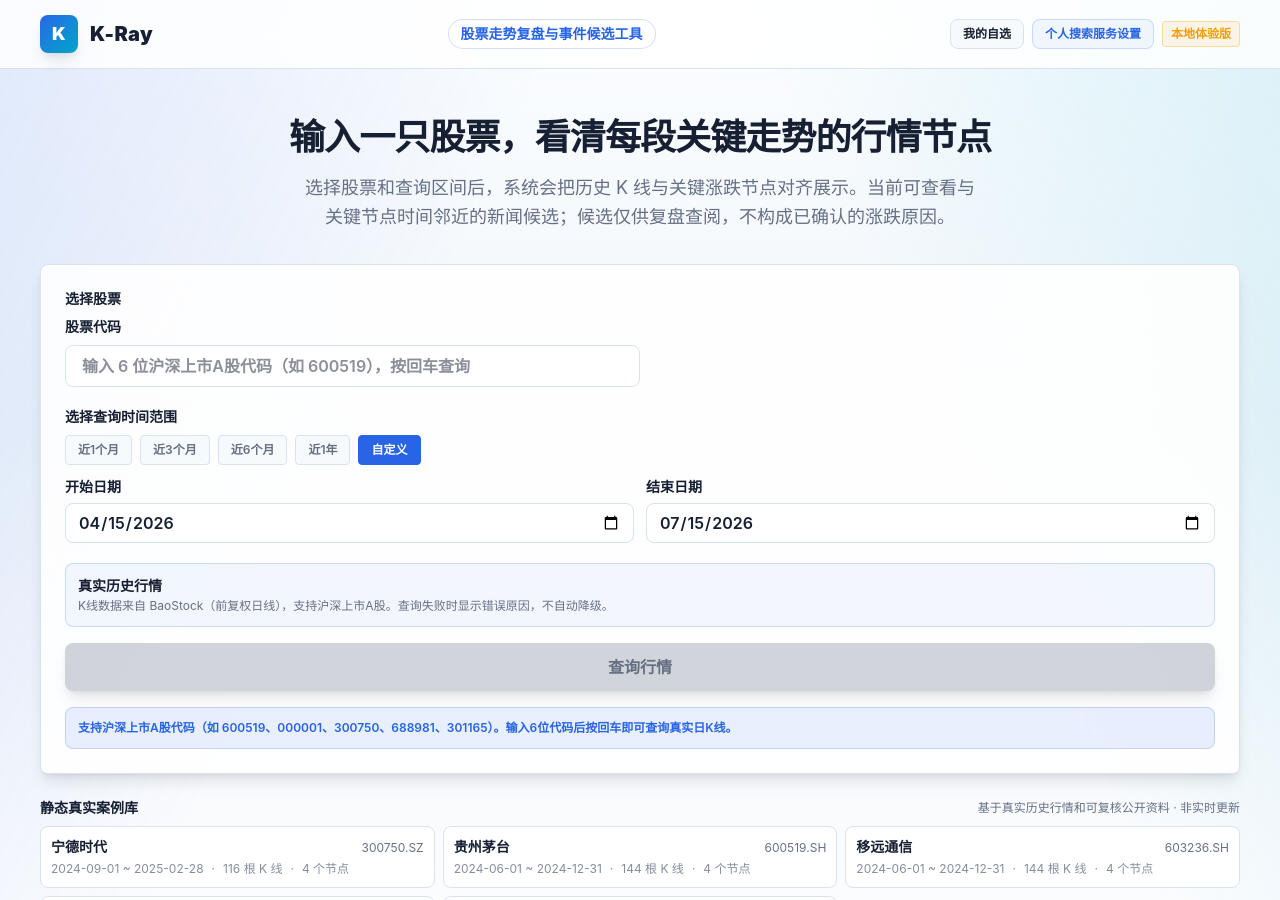
Test: 第八阶段前端测试 - 全A股日K查询 › 输入6位代码后显示自定义代码选项
The width and height of the screenshot is (1280, 900).
Step 1. Type "601318" into the field with placeholder "输入 6 位沪深上市A股代码（如 600519），按回车查询" → (352, 366), box [65,344,640,386]
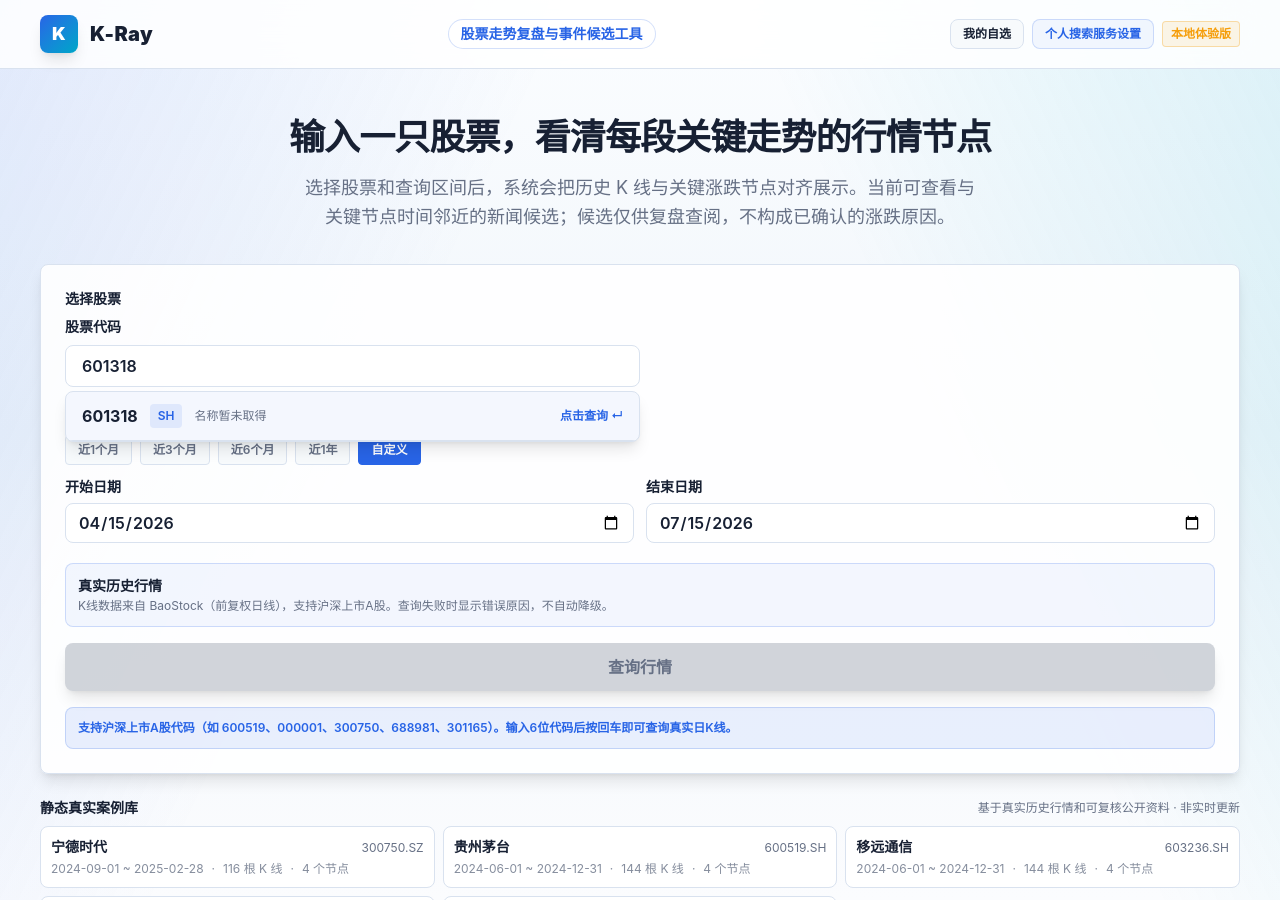
Expected: the button with test id "custom-code-option" is shown, [66,392,639,440]
Expected: the text "601318" is shown, [82,404,138,428]
Expected: the text "SH" is shown, [150,404,182,428]
